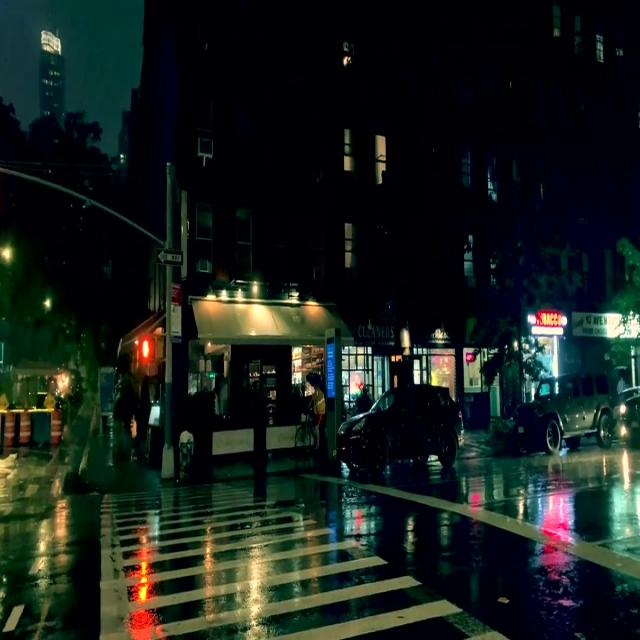Car: (338, 387, 464, 478), (518, 374, 613, 456)
